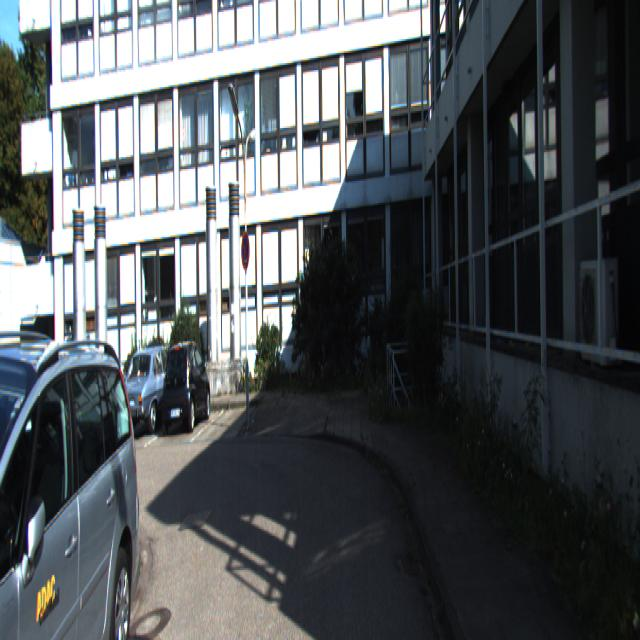Car: (0, 332, 147, 639), (0, 330, 104, 583), (117, 340, 182, 440), (161, 337, 212, 431)
